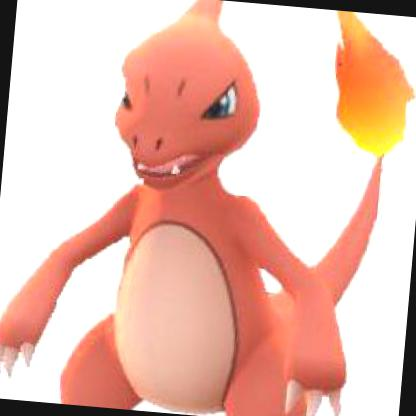Glutexo: (28, 0, 415, 415)
